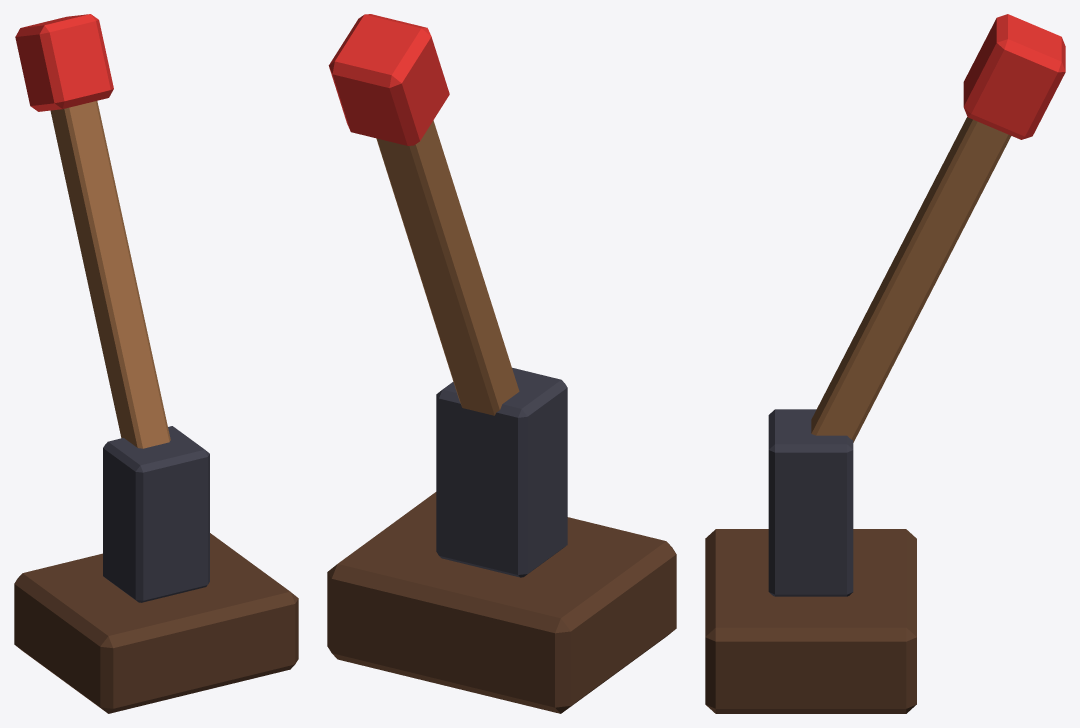
The model's file is Mine_Lever.fbx.
3 views of the same model, side by side, from view 1: azimuth 30°, elevation 25°; view 2: azimuth 150°, elevation 25°; view 3: azimuth 270°, elevation 25° (orthographic). The views are drawn at different scales.
Visible parts, largest first — view 1: spool.001, Arm, iron.001, Knob; view 2: spool.001, iron.001, Arm, Knob; view 3: spool.001, Arm, iron.001, Knob.
Part boxes in pixels (x1,y1,x2,y2): spool.001: [14, 533, 298, 713]; Arm: [50, 101, 170, 448]; iron.001: [103, 426, 209, 602]; Knob: [15, 14, 113, 111]; spool.001: [327, 492, 676, 713]; iron.001: [436, 367, 567, 577]; Arm: [376, 120, 519, 415]; Knob: [328, 14, 449, 145]; spool.001: [705, 529, 916, 713]; Arm: [811, 117, 1011, 442]; iron.001: [768, 409, 853, 596]; Knob: [963, 14, 1065, 139].
Size of the model in its own units: 1.2 by 3.32 by 1.7.
